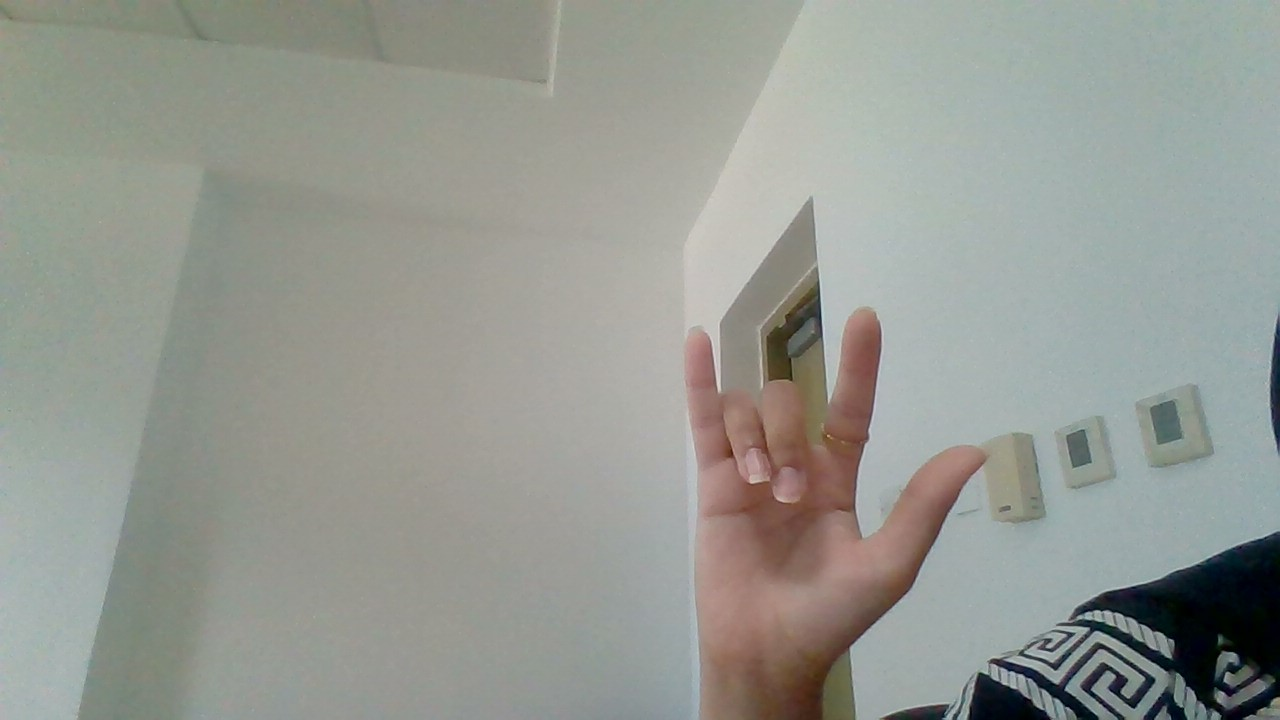love: (642, 286, 999, 693)
